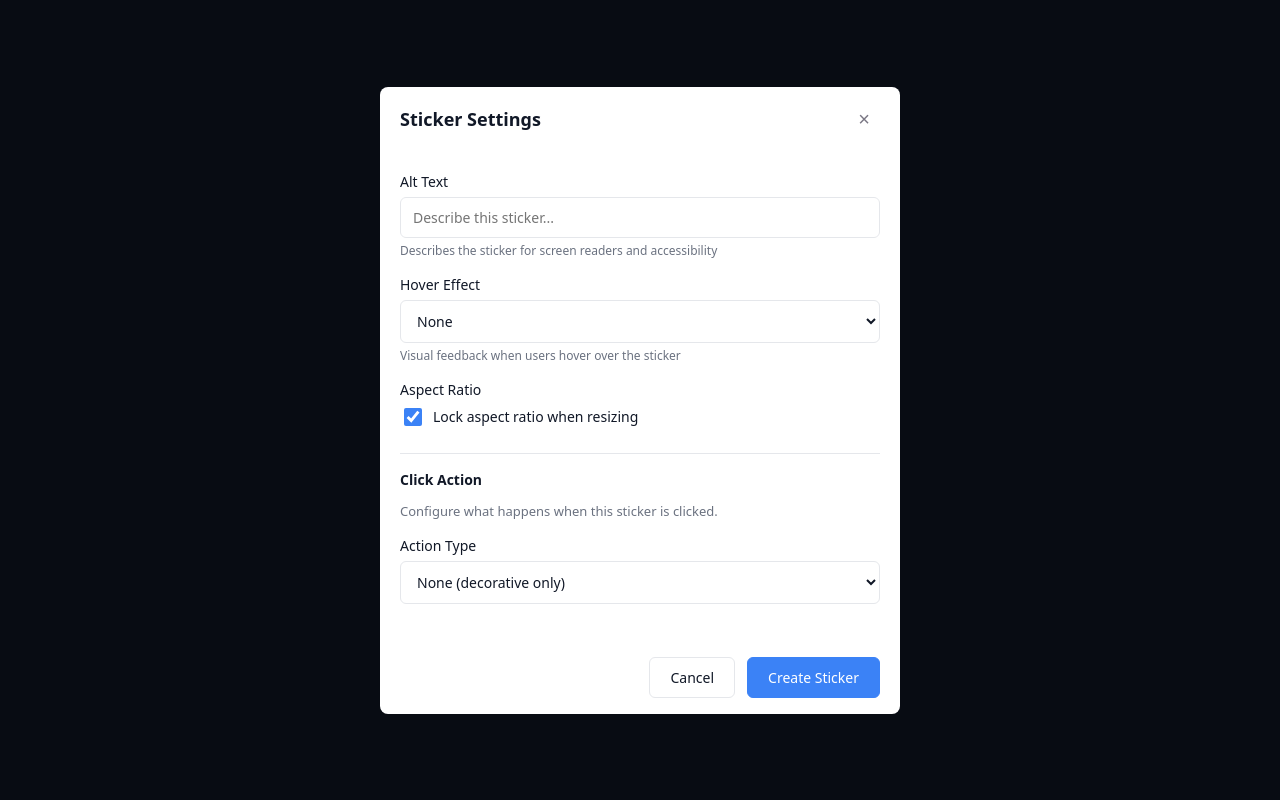
StickerSettingsModal › shows widget picker when launch-widget action is selected
Expected: the field labelled "Widget to Launch" is not shown
Note: Select 'launch-widget' action type
Select "Launch Widget" in the dropdown labelled "Action Type" at (640, 582), box [400,560,880,604]
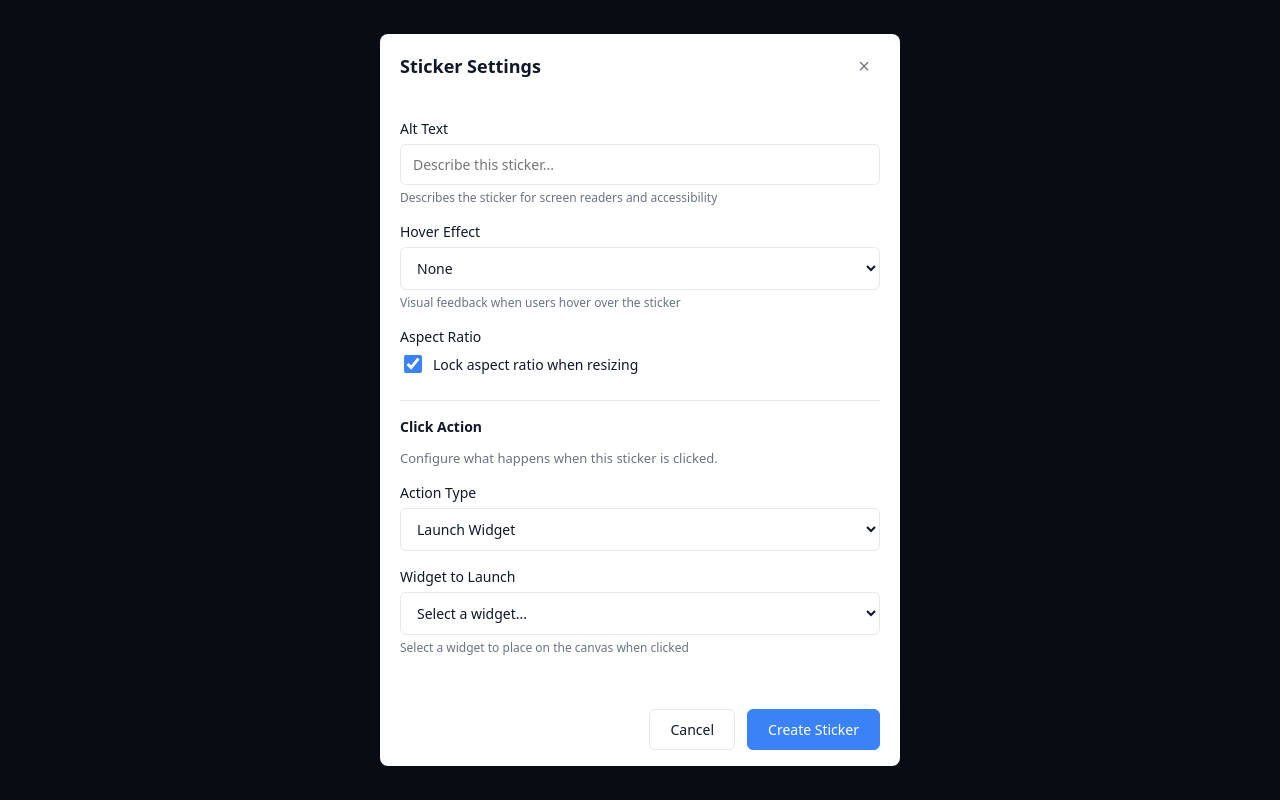
Expected: the dropdown labelled "Widget to Launch" is shown, [400,592,880,635]
